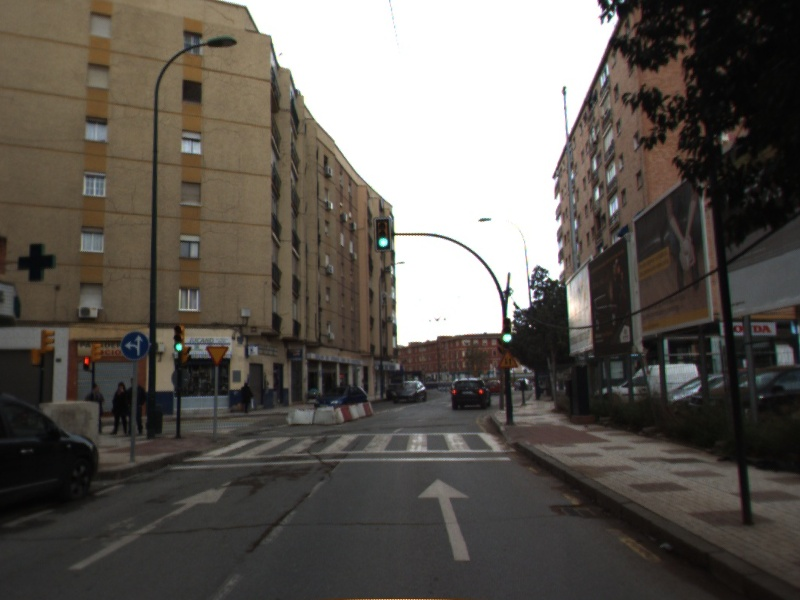STRAIGHT: (67, 476, 234, 574), (414, 476, 477, 564)
